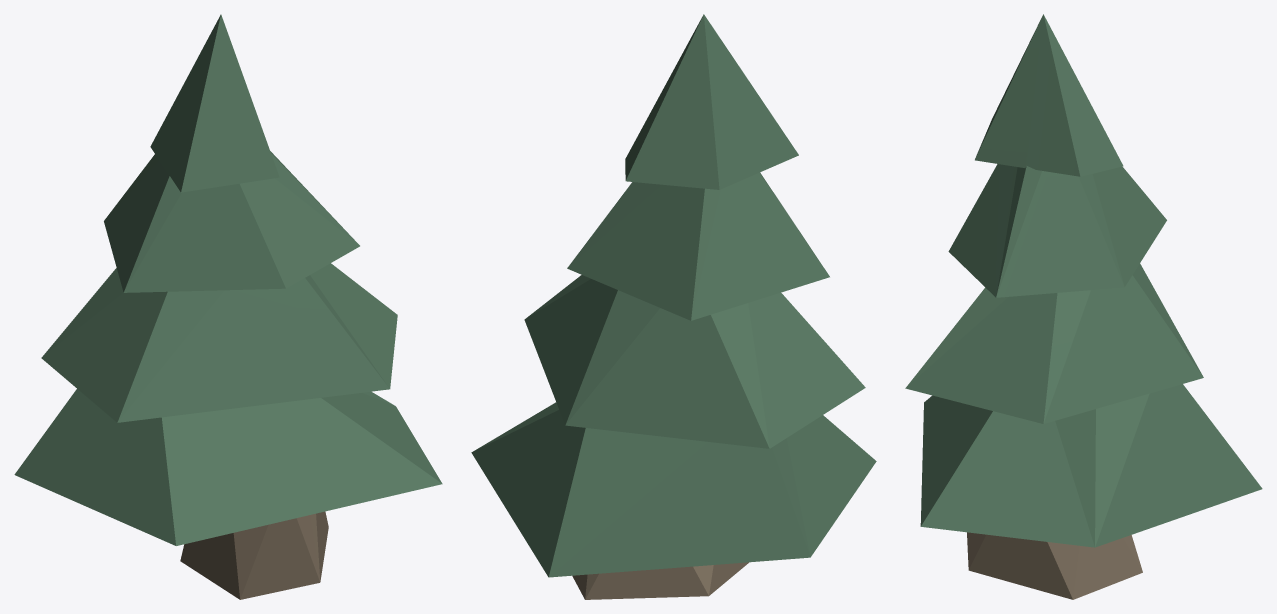
File: Vegetation_Tree_Pine_02.fbx
3 renders of one model, left to right at view 1: azimuth 30°, elevation 25°; view 2: azimuth 150°, elevation 25°; view 3: azimuth 270°, elevation 25°, orthographic. The views are drawn at different scales.
Parts seen in each view (by area): view 1: Vegetation_Tree_Pine_02; view 2: Vegetation_Tree_Pine_02; view 3: Vegetation_Tree_Pine_02.
Boxes of the visible parts, x1,y1,x2,y2 form: Vegetation_Tree_Pine_02: (14, 14, 442, 599); Vegetation_Tree_Pine_02: (471, 14, 876, 599); Vegetation_Tree_Pine_02: (905, 14, 1262, 599).
Size of the model in its own units: 2158 by 3195 by 1959.
